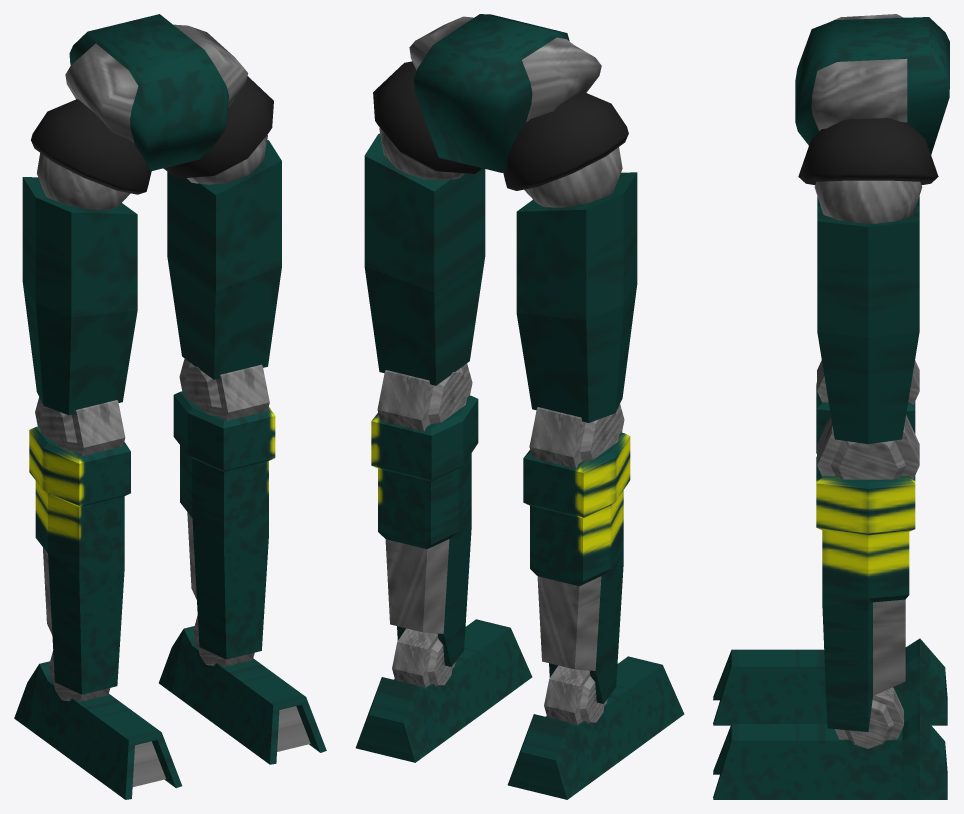
The model's file is Robot 7 legs .fbx.
The picture shows the model from 3 angles, left to right: view 1: azimuth 30°, elevation 25°; view 2: azimuth 150°, elevation 25°; view 3: azimuth 270°, elevation 25°; orthographic projection. The views are drawn at different scales.
Visible parts, largest first — view 1: Cube.021, Icosphere, Cylinder.005, Cylinder.002, Icosphere.009, Cube.015, Cube.008; view 2: Cube.021, Icosphere, Icosphere.009, Cylinder.005, Cylinder.002, Cube.015, Cube.008; view 3: Icosphere.009, Cylinder.005, Cube.021, Cube.008, Cube.015, Cylinder.002.
Part boxes in pixels (x1,y1,x2,y2): Cube.021: (31,14,273,194); Icosphere: (22,153,137,415); Cylinder.005: (173,358,275,659); Cylinder.002: (29,397,130,694); Icosphere.009: (167,135,281,379); Cube.015: (14,650,182,799); Cube.008: (159,616,326,764); Cube.021: (373,14,628,190); Icosphere: (516,147,637,422); Icosphere.009: (364,128,485,385); Cylinder.005: (371,363,478,666); Cylinder.002: (523,404,630,703); Cube.015: (507,656,684,799); Cube.008: (355,619,532,762); Icosphere.009: (814,180,922,443); Cylinder.005: (816,415,919,731); Cube.021: (795,14,949,184); Cube.008: (713,687,947,799); Cube.015: (713,638,947,725); Cylinder.002: (816,360,919,453).
Bounding box in the file's own units: 281 × 781 × 235.
